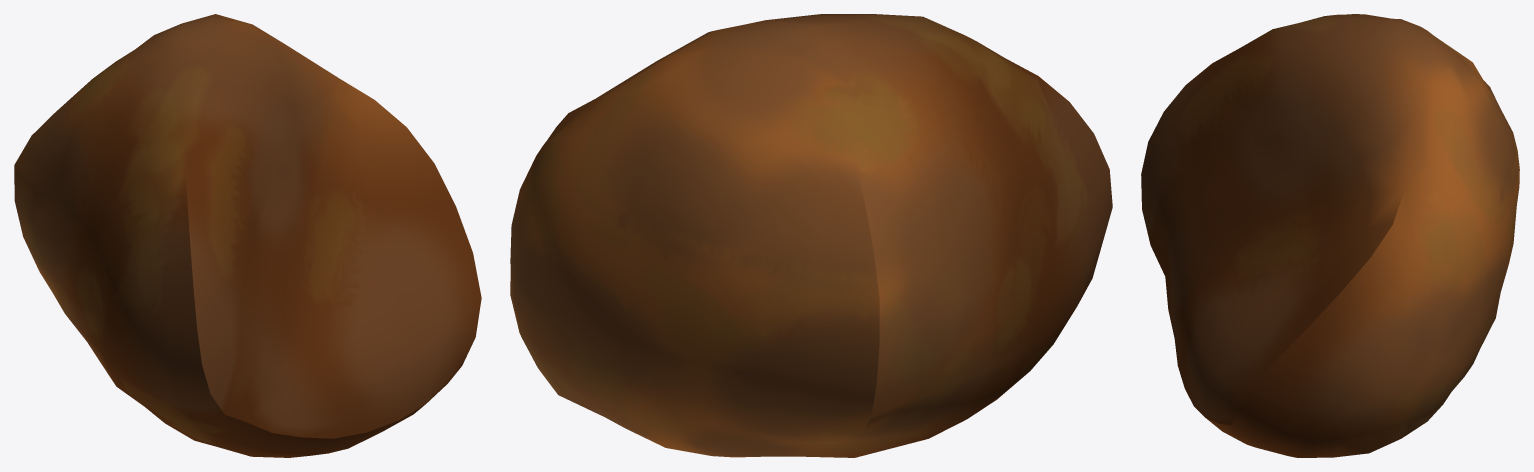
Rendered from Roca_espacial2.fbx.
3 renders of one model, left to right at view 1: azimuth 30°, elevation 25°; view 2: azimuth 150°, elevation 25°; view 3: azimuth 270°, elevation 25°, orthographic. The views are drawn at different scales.
Parts seen in each view (by area): view 1: roca2_Low; view 2: roca2_Low; view 3: roca2_Low.
Part boxes in pixels (bbox=[...]): roca2_Low: bbox=[14, 14, 481, 457]; roca2_Low: bbox=[510, 14, 1112, 457]; roca2_Low: bbox=[1141, 14, 1519, 457].
Size of the model in its own units: 1.03 by 1.01 by 0.9275.
